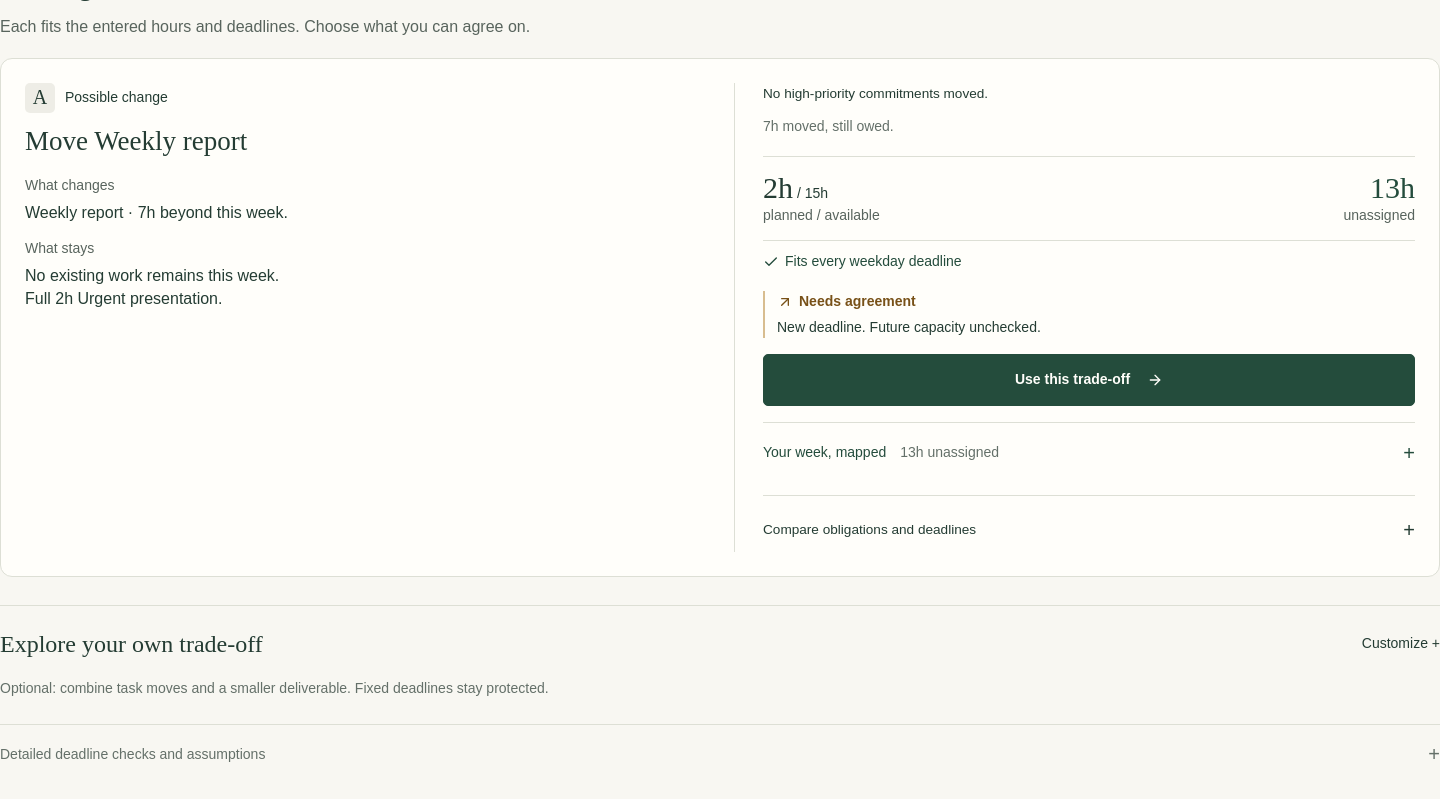
Scenario: manual later scope change stays infeasible; a relevant deferral creates and reset removes the map
(page scrolled)
Click the button "Explore your own trade-off Customize +" at (131, 644), box x1=0 y1=622 x2=1439 y2=666
(page scrolled)
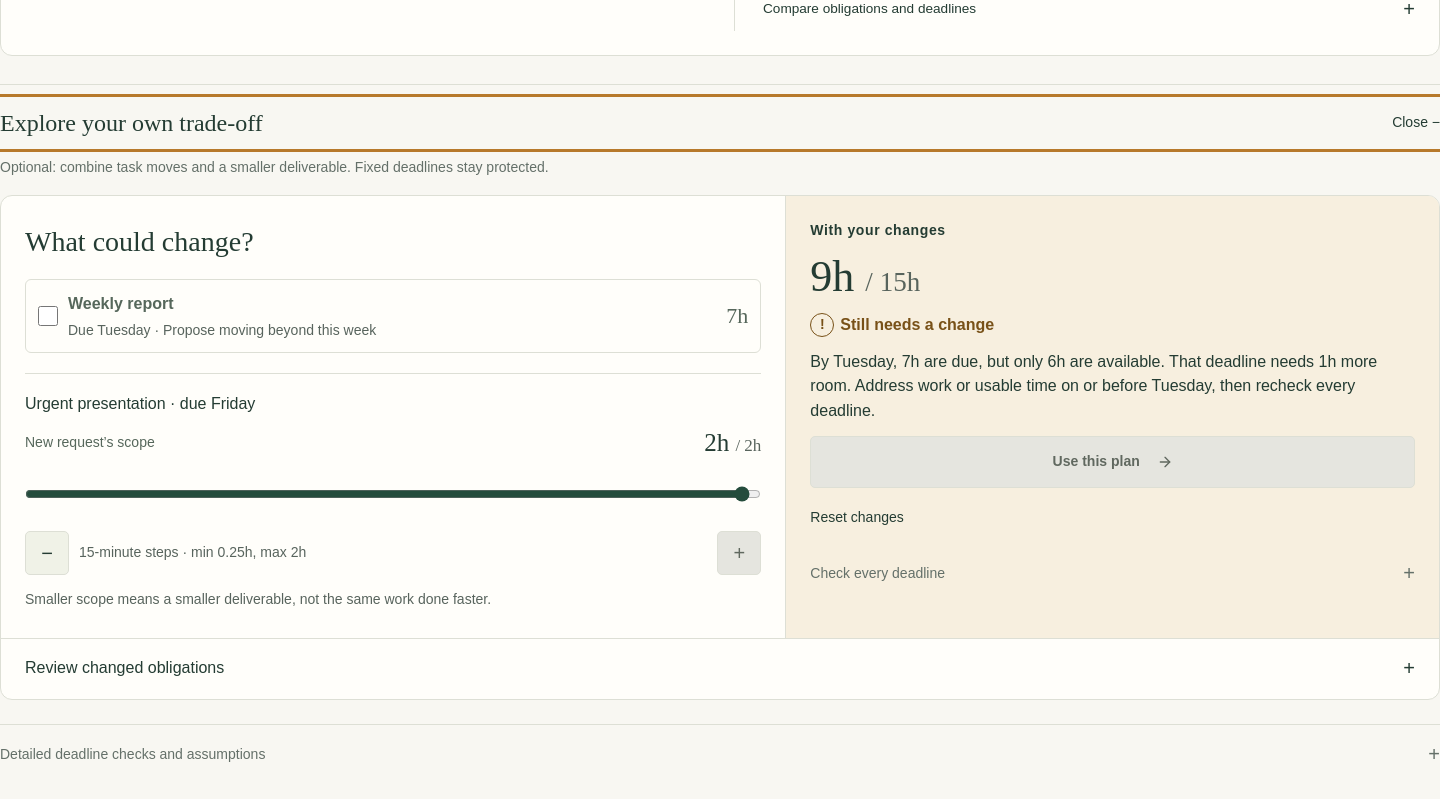
Set the slider to "1" at (33, 494), box x1=25 y1=471 x2=761 y2=517
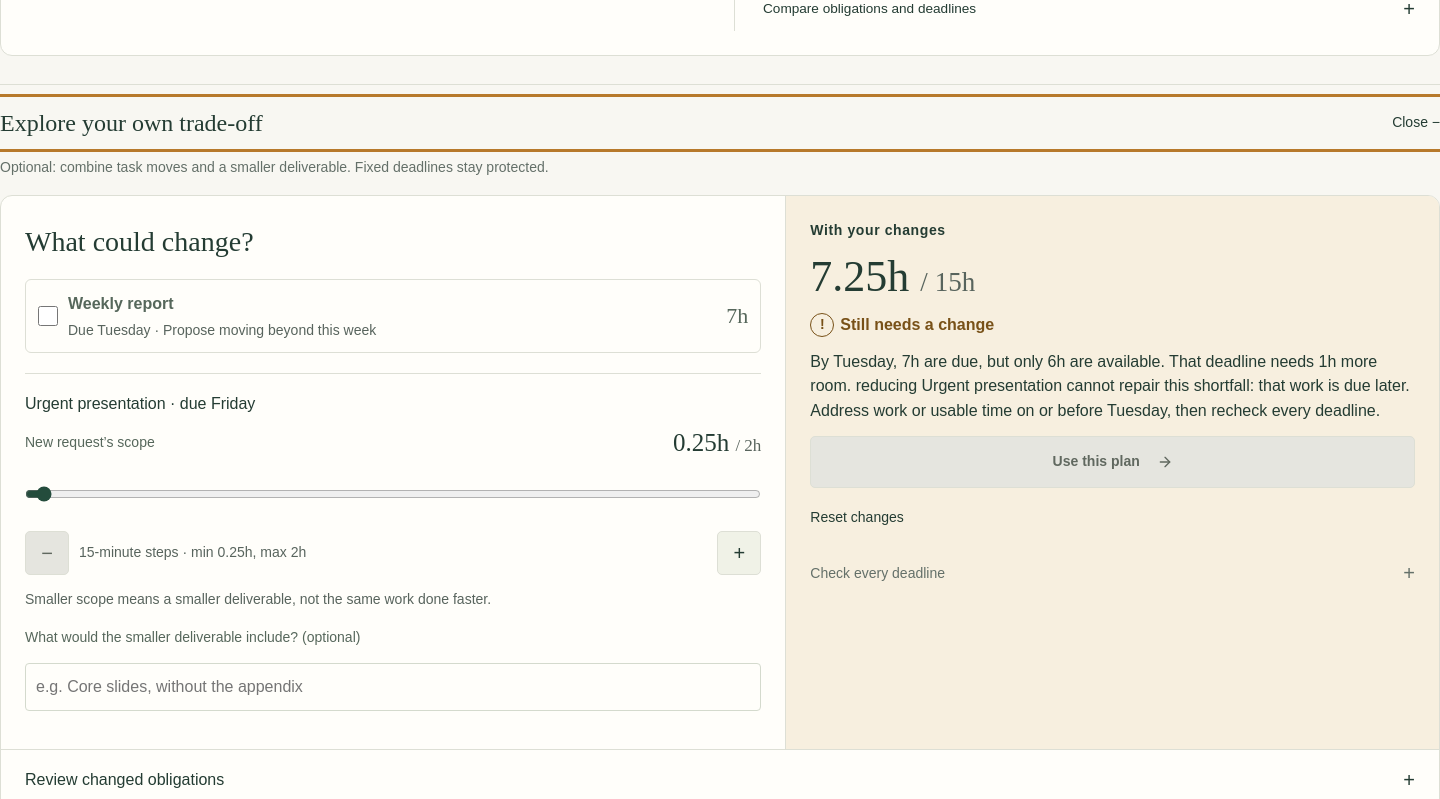
Now the button "Use this plan" is disabled, box x1=810 y1=436 x2=1415 y2=488
Now the message shows "reducing Urgent presentation cannot repair this shortfall", box x1=810 y1=353 x2=1410 y2=419
Click the checkbox named "Defer Weekly report" at (48, 316), box x1=38 y1=306 x2=58 y2=326
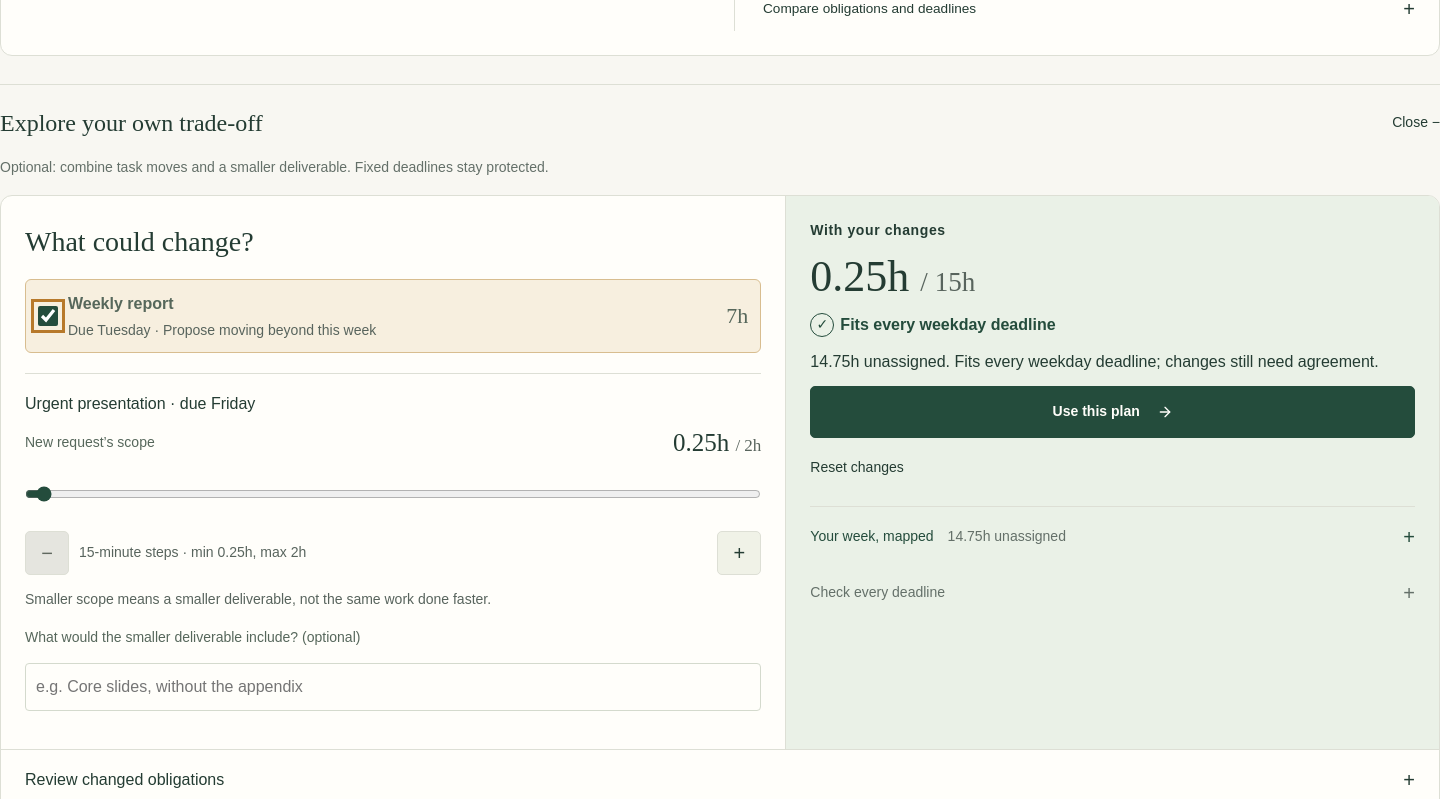
Now the button "Use this plan" is enabled, box x1=810 y1=386 x2=1415 y2=438
Now the heading "Your week, mapped 14.75h unassigned" is shown, box x1=810 y1=528 x2=1066 y2=544
Click the button "Reset changes" at (857, 468), box x1=810 y1=446 x2=904 y2=490
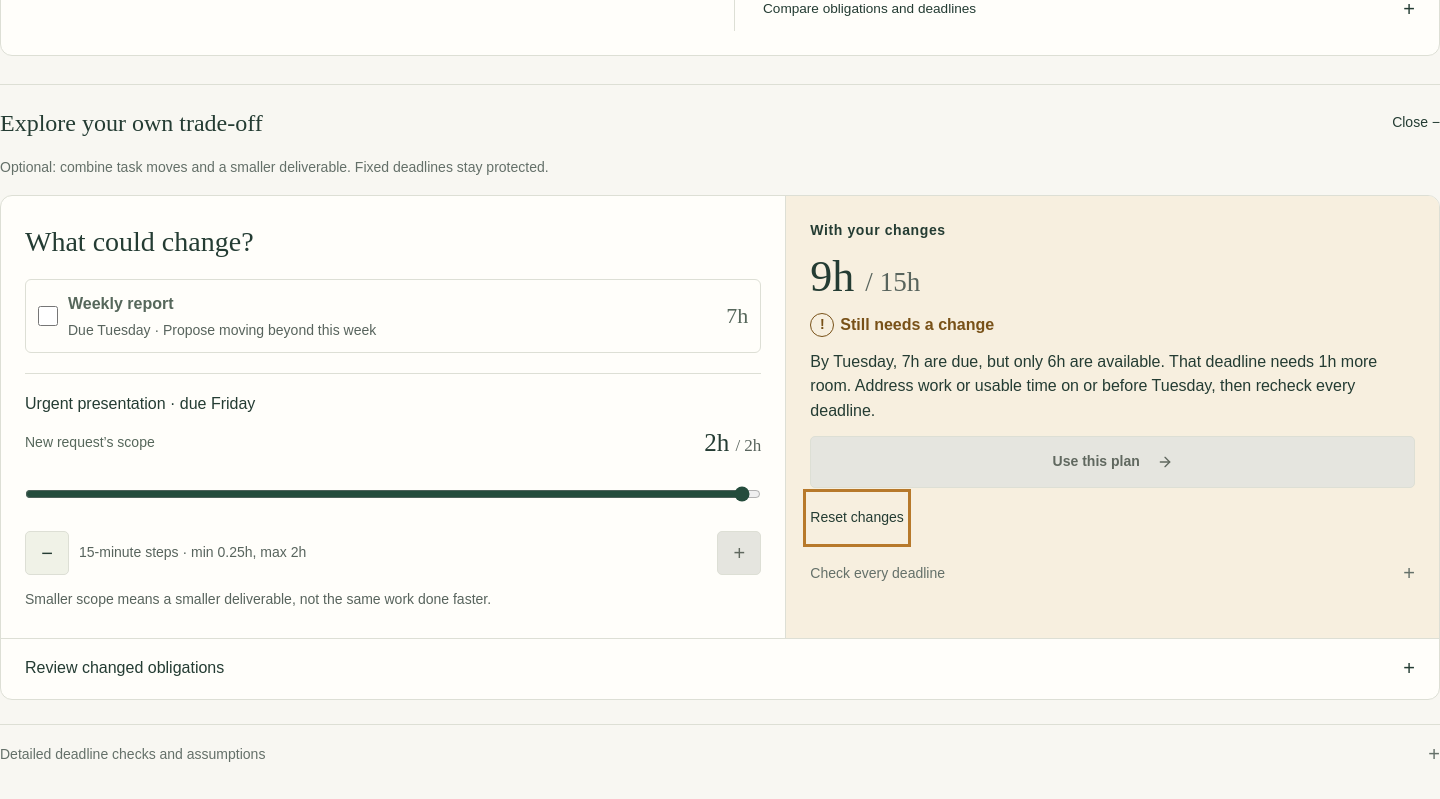
Expected: the text "Your week, mapped" is not shown
Now the button "Use this plan" is disabled, box x1=810 y1=436 x2=1415 y2=488
